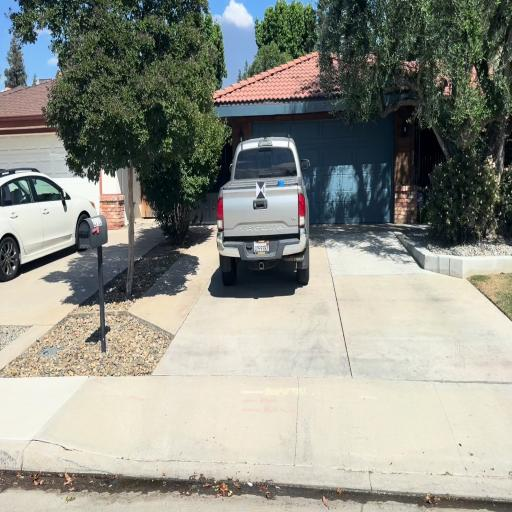target1: (256, 182, 265, 199)
